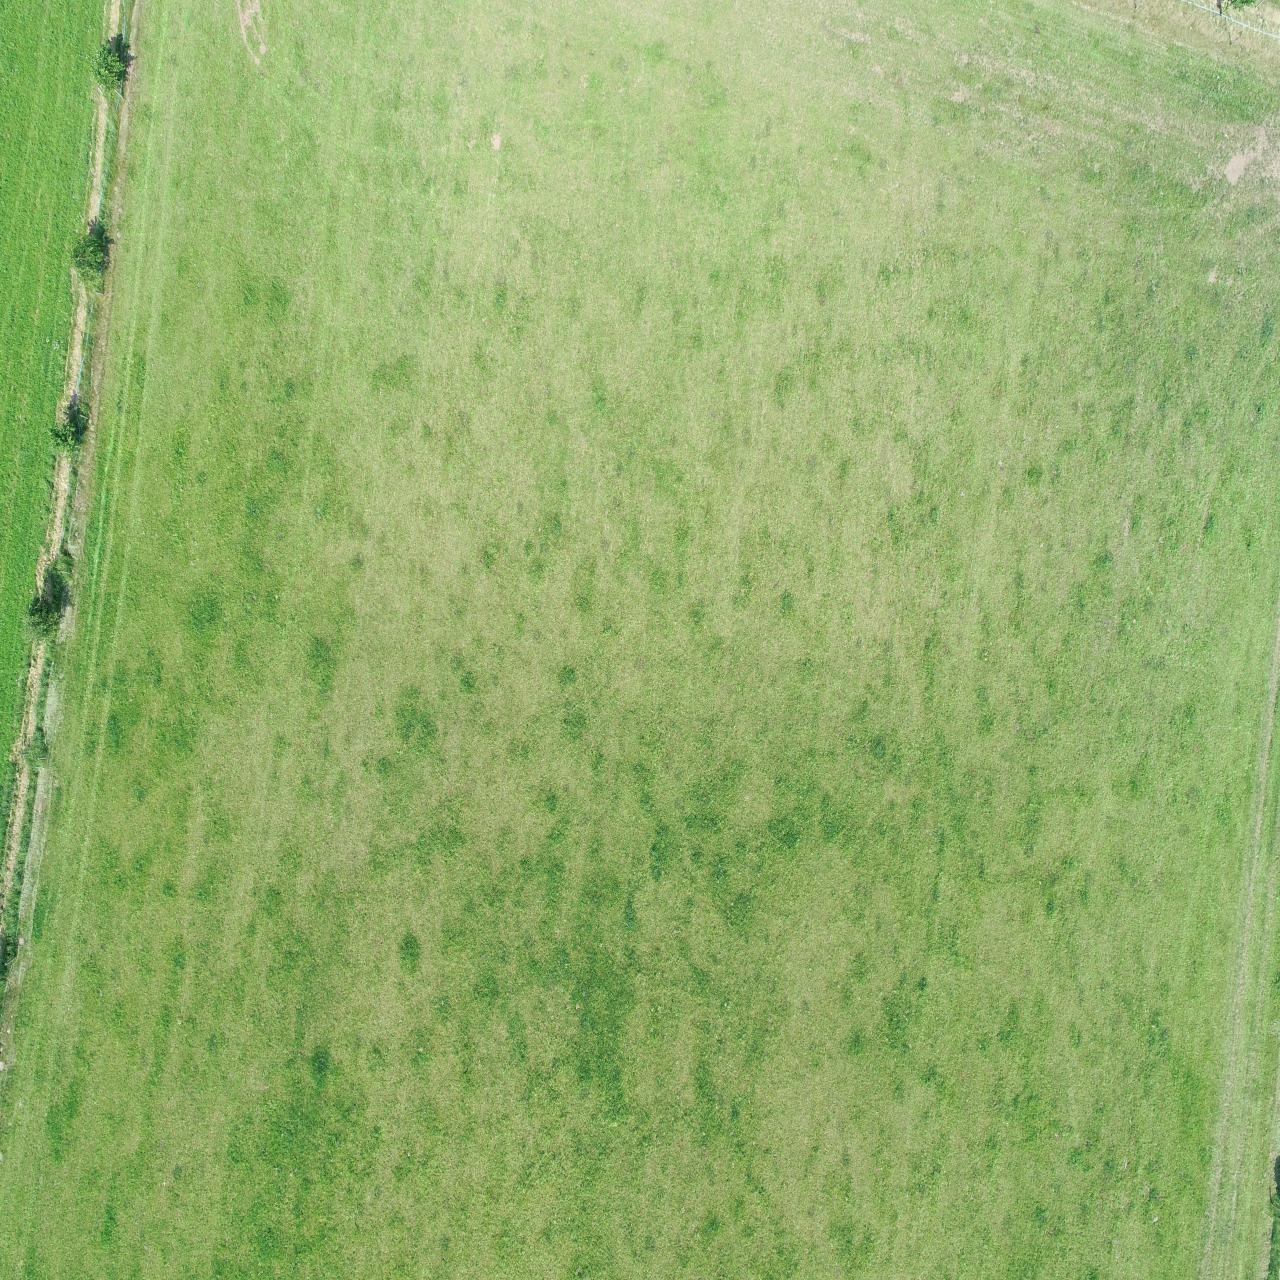cow: (1094, 1062, 1122, 1136), (975, 535, 999, 591)
